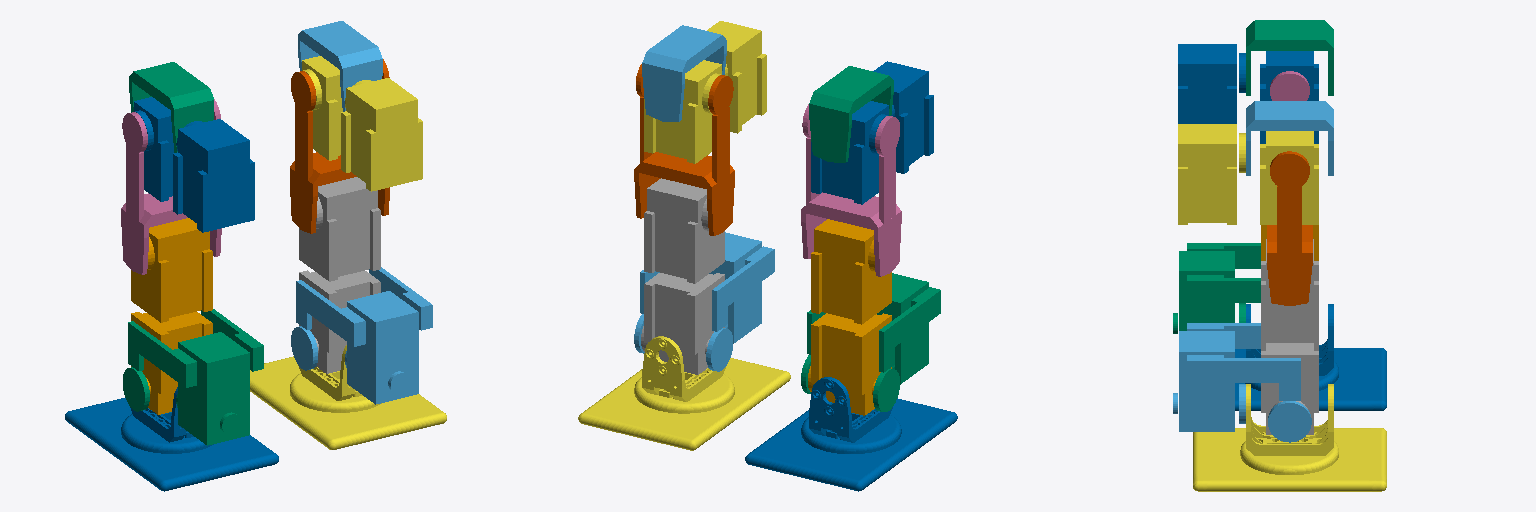
The robot description file, URDF, robot "humanoid":
<?xml version="1.0" ?>
<!-- =================================================================================== -->
<!-- |    This document was autogenerated by xacro from indy7.xacro                    | -->
<!-- |    EDITING THIS FILE BY HAND IS NOT RECOMMENDED                                 | -->
<!-- =================================================================================== -->
<robot name="humanoid" xmlns:xacro="http://ros.org/wiki/xacro">
	<!-- <material name="grey"> <color rgba="0.5 0.5 0.5 1"/> </material> -->
	<link name="body_link">
		<visual>
			<origin rpy="0 0 0" xyz="0 0 0"/>
			<geometry>
				<mesh filename="meshes/body.stl"/>
			</geometry>
			<material name="metal_grey"/>
		</visual>
		<collision>
			<origin rpy="0 0 0" xyz="0 0 0"/>
			<geometry>
				<mesh filename="meshes/body.stl" />
			</geometry>
		</collision>
		<inertial>
		<origin rpy="0 0 0" xyz="0 0 0"/>
			<mass value="1.59306955"/>
			<inertia ixx="+0.00572623" ixy="+0.00000251" ixz="-0.00011380" iyy="+0.00558959" iyz="-0.00000014" izz="+0.00966674"/>
		</inertial>
	</link>
	<link name="left_yaw_link">
		<visual>
			<origin rpy="0 0 0" xyz="0 0 0"/>
			<geometry>
				<mesh filename="meshes/yaw_link.stl"/>
			</geometry>
			<material name="metal_grey"/>
		</visual>
		<collision>
			<origin rpy="0 0 0" xyz="0 0 0"/>
			<geometry>
				<mesh filename="meshes/yaw_link.stl" />
			</geometry>
		</collision>
		<inertial>
		<origin rpy="0 0 0" xyz="0 0 0"/>
			<mass value="1.59306955"/>
			<inertia ixx="+0.00572623" ixy="+0.00000251" ixz="-0.00011380" iyy="+0.00558959" iyz="-0.00000014" izz="+0.00966674"/>
		</inertial>
	</link>
	<link name="right_yaw_link">
		<visual>
			<origin rpy="0 0 0" xyz="0 0 0"/>
			<geometry>
				<mesh filename="meshes/yaw_link.stl"/>
			</geometry>
			<material name="metal_grey"/>
		</visual>
		<collision>
			<origin rpy="0 0 0" xyz="0 0 0"/>
			<geometry>
				<mesh filename="meshes/yaw_link.stl" />
			</geometry>
		</collision>
		<inertial>
		<origin rpy="0 0 0" xyz="0 0 0"/>
			<mass value="1.59306955"/>
			<inertia ixx="+0.00572623" ixy="+0.00000251" ixz="-0.00011380" iyy="+0.00558959" iyz="-0.00000014" izz="+0.00966674"/>
		</inertial>
	</link>
	<link name="left_roll_link">
		<visual>
			<origin rpy="0 0 0" xyz="0 0 0"/>
			<geometry>
				<mesh filename="meshes/roll_link.stl"/>
			</geometry>
			<material name="metal_grey"/>
		</visual>
		<collision>
			<origin rpy="0 0 0" xyz="0 0 0"/>
			<geometry>
				<mesh filename="meshes/roll_link.stl" />
			</geometry>
		</collision>
		<inertial>
		<origin rpy="0 0 0" xyz="0 0 0"/>
			<mass value="1.59306955"/>
			<inertia ixx="+0.00572623" ixy="+0.00000251" ixz="-0.00011380" iyy="+0.00558959" iyz="-0.00000014" izz="+0.00966674"/>
		</inertial>
	</link>
	<link name="right_roll_link">
		<visual>
			<origin rpy="0 0 0" xyz="0 0 0"/>
			<geometry>
				<mesh filename="meshes/roll_link.stl"/>
			</geometry>
			<material name="metal_grey"/>
		</visual>
		<collision>
			<origin rpy="0 0 0" xyz="0 0 0"/>
			<geometry>
				<mesh filename="meshes/roll_link.stl" />
			</geometry>
		</collision>
		<inertial>
		<origin rpy="0 0 0" xyz="0 0 0"/>
			<mass value="1.59306955"/>
			<inertia ixx="+0.00572623" ixy="+0.00000251" ixz="-0.00011380" iyy="+0.00558959" iyz="-0.00000014" izz="+0.00966674"/>
		</inertial>
	</link>
	<link name="left_pitch_link">
		<visual>
			<origin rpy="0 0 0" xyz="0 0 0"/>
			<geometry>
				<mesh filename="meshes/pitch_link.stl"/>
			</geometry>
			<material name="metal_grey"/>
		</visual>
		<collision>
			<origin rpy="0 0 0" xyz="0 0 0"/>
			<geometry>
				<mesh filename="meshes/pitch_link.stl" />
			</geometry>
		</collision>
		<inertial>
		<origin rpy="0 0 0" xyz="0 0 0"/>
			<mass value="1.59306955"/>
			<inertia ixx="+0.00572623" ixy="+0.00000251" ixz="-0.00011380" iyy="+0.00558959" iyz="-0.00000014" izz="+0.00966674"/>
		</inertial>
	</link>
	<link name="right_pitch_link">
		<visual>
			<origin rpy="0 0 0" xyz="0 0 0"/>
			<geometry>
				<mesh filename="meshes/pitch_link.stl"/>
			</geometry>
			<material name="metal_grey"/>
		</visual>
		<collision>
			<origin rpy="0 0 0" xyz="0 0 0"/>
			<geometry>
				<mesh filename="meshes/pitch_link.stl" />
			</geometry>
		</collision>
		<inertial>
		<origin rpy="0 0 0" xyz="0 0 0"/>
			<mass value="1.59306955"/>
			<inertia ixx="+0.00572623" ixy="+0.00000251" ixz="-0.00011380" iyy="+0.00558959" iyz="-0.00000014" izz="+0.00966674"/>
		</inertial>
	</link>
	<link name="left_leg_link">
		<visual>
			<origin rpy="0 0 0" xyz="0 0 0"/>
			<geometry>
				<mesh filename="meshes/leg_link.stl"/>
			</geometry>
			<material name="metal_grey"/>
		</visual>
		<collision>
			<origin rpy="0 0 0" xyz="0 0 0"/>
			<geometry>
				<mesh filename="meshes/leg_link.stl" />
			</geometry>
		</collision>
		<inertial>
		<origin rpy="0 0 0" xyz="0 0 0"/>
			<mass value="1.59306955"/>
			<inertia ixx="+0.00572623" ixy="+0.00000251" ixz="-0.00011380" iyy="+0.00558959" iyz="-0.00000014" izz="+0.00966674"/>
		</inertial>
	</link>
	<link name="right_leg_link">
		<visual>
			<origin rpy="0 0 0" xyz="0 0 0"/>
			<geometry>
				<mesh filename="meshes/leg_link.stl"/>
			</geometry>
			<material name="metal_grey"/>
		</visual>
		<collision>
			<origin rpy="0 0 0" xyz="0 0 0"/>
			<geometry>
				<mesh filename="meshes/leg_link.stl" />
			</geometry>
		</collision>
		<inertial>
		<origin rpy="0 0 0" xyz="0 0 0"/>
			<mass value="1.59306955"/>
			<inertia ixx="+0.00572623" ixy="+0.00000251" ixz="-0.00011380" iyy="+0.00558959" iyz="-0.00000014" izz="+0.00966674"/>
		</inertial>
	</link>
	<link name="left_leg_link2">
		<visual>
			<origin rpy="0 0 0" xyz="0 0 0"/>
			<geometry>
				<mesh filename="meshes/leg_link2.stl"/>
			</geometry>
			<material name="metal_grey"/>
		</visual>
		<collision>
			<origin rpy="0 0 0" xyz="0 0 0"/>
			<geometry>
				<mesh filename="meshes/leg_link2.stl" />
			</geometry>
		</collision>
		<inertial>
		<origin rpy="0 0 0" xyz="0 0 0"/>
			<mass value="1.59306955"/>
			<inertia ixx="+0.00572623" ixy="+0.00000251" ixz="-0.00011380" iyy="+0.00558959" iyz="-0.00000014" izz="+0.00966674"/>
		</inertial>
	</link>	
	<link name="right_leg_link2">
		<visual>
			<origin rpy="0 0 0" xyz="0 0 0"/>
			<geometry>
				<mesh filename="meshes/leg_link2.stl"/>
			</geometry>
			<material name="metal_grey"/>
		</visual>
		<collision>
			<origin rpy="0 0 0" xyz="0 0 0"/>
			<geometry>
				<mesh filename="meshes/leg_link2.stl" />
			</geometry>
		</collision>
		<inertial>
		<origin rpy="0 0 0" xyz="0 0 0"/>
			<mass value="1.59306955"/>
			<inertia ixx="+0.00572623" ixy="+0.00000251" ixz="-0.00011380" iyy="+0.00558959" iyz="-0.00000014" izz="+0.00966674"/>
		</inertial>
	</link>	
	<link name="left_feet_link">
		<visual>
			<origin rpy="0 0 0" xyz="0 0 0"/>
			<geometry>
				<mesh filename="meshes/feet_link.stl"/>
			</geometry>
			<material name="metal_grey"/>
		</visual>
		<collision>
			<origin rpy="0 0 0" xyz="0 0 0"/>
			<geometry>
				<mesh filename="meshes/feet_link.stl" />
			</geometry>
		</collision>
		<inertial>
		<origin rpy="0 0 0" xyz="0 0 0"/>
			<mass value="1.59306955"/>
			<inertia ixx="+0.00572623" ixy="+0.00000251" ixz="-0.00011380" iyy="+0.00558959" iyz="-0.00000014" izz="+0.00966674"/>
		</inertial>
	</link>
	<link name="right_feet_link">
		<visual>
			<origin rpy="0 0 0" xyz="0 0 0"/>
			<geometry>
				<mesh filename="meshes/feet_link.stl"/>
			</geometry>
			<material name="metal_grey"/>
		</visual>
		<collision>
			<origin rpy="0 0 0" xyz="0 0 0"/>
			<geometry>
				<mesh filename="meshes/feet_link.stl" />
			</geometry>
		</collision>
		<inertial>
		<origin rpy="0 0 0" xyz="0 0 0"/>
			<mass value="1.59306955"/>
			<inertia ixx="+0.00572623" ixy="+0.00000251" ixz="-0.00011380" iyy="+0.00558959" iyz="-0.00000014" izz="+0.00966674"/>
		</inertial>
	</link>




	<joint name="left_yaw_joint" type="revolute">
		<parent link="body_link"/>
		<child link="left_yaw_link"/>
		<origin rpy="0 0 0" xyz="0.0519 0 -0.021003"/>
		<axis xyz="0 0 1"/>
		<limit effort="10" lower="-3.141592" upper="3.141592" velocity="1"/>
	</joint>

	<joint name="right_yaw_joint" type="revolute">
		<parent link="body_link"/>
		<child link="right_yaw_link"/>
		<origin rpy="0 0 0" xyz="-0.0519 0 -0.021003"/>
		<axis xyz="0 0 1"/>
		<limit effort="10" lower="-3.141592" upper="3.141592" velocity="1"/>
	</joint>

	<joint name="left_roll_joint" type="revolute">
		<parent link="left_yaw_link"/>
		<child link="left_roll_link"/>
		<origin rpy="0 0 0" xyz="0 0 -0.025916"/>
		<axis xyz="0 1 0"/>
		<limit effort="10" lower="-1.5707" upper="1.5707" velocity="1"/>
	</joint>
	<joint name="right_roll_joint" type="revolute">
		<parent link="right_yaw_link"/>
		<child link="right_roll_link"/>
		<origin rpy="0 0 0" xyz="0 0 -0.025916"/>
		<axis xyz="0 1 0"/>
		<limit effort="10" lower="-1.5707" upper="1.5707" velocity="1"/>
	</joint>
	<joint name="left_pitch_joint" type="revolute">
		<parent link="left_roll_link"/>
		<child link="left_pitch_link"/>
		<origin rpy="0 0 0" xyz="0 0 0"/>
		<axis xyz="1 0 0"/>
		<limit effort="10" lower="-0.349065" upper="2.617993333333333" velocity="1"/>
	</joint>	
	<joint name="right_pitch_joint" type="revolute">
		<parent link="right_roll_link"/>
		<child link="right_pitch_link"/>
		<origin rpy="0 0 0" xyz="0 0 0"/>
		<axis xyz="1 0 0"/>
		<limit effort="10" lower="-0.349065" upper="2.617993333333333" velocity="1"/>
	</joint>	
	<joint name="left_leg_joint" type="revolute">
		<parent link="left_pitch_link"/>
		<child link="left_leg_link"/>
		<origin rpy="0 0 0" xyz="0 0 -0.070405"/>
		<axis xyz="1 0 0"/>
		<limit effort="10" lower="-2.0420348" upper="2.0420348" velocity="1"/>
	</joint>	
	<joint name="right_leg_joint" type="revolute">
		<parent link="right_pitch_link"/>
		<child link="right_leg_link"/>
		<origin rpy="0 0 0" xyz="0 0 -0.070405"/>
		<axis xyz="1 0 0"/>
		<limit effort="10" lower="-2.0420348" upper="2.0420348" velocity="1"/>
	</joint>
	<joint name="left_leg_joint2" type="revolute">
		<parent link="left_leg_link"/>
		<child link="left_leg_link2"/>
		<origin rpy="0 0 0" xyz="0 0 -0.080865"/>
		<axis xyz="1 0 0"/>
		<limit effort="10" lower="-0.349065" upper="0.349065" velocity="1"/>
	</joint>
	<joint name="right_leg_joint2" type="revolute">
		<parent link="right_leg_link"/>
		<child link="right_leg_link2"/>
		<origin rpy="0 0 0" xyz="0 0 -0.080865"/>
		<axis xyz="1 0 0"/>
		<limit effort="10" lower="-0.349065" upper="0.349065" velocity="1"/>
	</joint>	
	<joint name="left_feet_joint" type="revolute">
		<parent link="left_leg_link2"/>
		<child link="left_feet_link"/>
		<origin rpy="0 0 0" xyz="0 0 0.0"/>
		<axis xyz="0 1 0"/>
		<limit effort="10" lower="-0.4188789333333333" upper="0.4188789333333333" velocity="1"/>
	</joint>
	<joint name="right_feet_joint" type="revolute">
		<parent link="right_leg_link2"/>
		<child link="right_feet_link"/>
		<origin rpy="0 0 0" xyz="0 0 0.0"/>
		<axis xyz="0 1 0"/>
		<limit effort="10" lower="-0.4188789333333333" upper="0.4188789333333333" velocity="1"/>
	</joint>					
</robot>

--- Render facts (derived) ---
The picture shows the robot from 3 angles, left to right: view 1: azimuth 30°, elevation 25°; view 2: azimuth 150°, elevation 25°; view 3: azimuth 270°, elevation 25°; orthographic projection.
Model humanoid with 13 links and 12 joints (12 revolute), rooted at body_link, posed every joint at zero.
Visible links, largest first — view 1: left_leg_link2, right_leg_link2, right_roll_link, left_roll_link, right_feet_link, left_feet_link, right_leg_link, left_leg_link, right_pitch_link, left_pitch_link, right_yaw_link, left_yaw_link; view 2: left_feet_link, right_feet_link, left_leg_link, right_leg_link, right_roll_link, left_roll_link, right_pitch_link, left_pitch_link, left_leg_link2, right_leg_link2, right_yaw_link, left_yaw_link; view 3: left_feet_link, left_leg_link2, left_roll_link, right_roll_link, right_leg_link2, left_pitch_link, left_leg_link, right_feet_link, right_yaw_link, left_yaw_link, right_pitch_link.
Boxes of the visible links, x1,y1,x2,y2 form: left_leg_link2: (291,267,432,404); right_leg_link2: (123,309,263,445); right_roll_link: (134,97,254,232); left_roll_link: (302,56,422,191); right_feet_link: (65,387,278,491); left_feet_link: (250,345,446,449); right_leg_link: (131,218,212,414); left_leg_link: (299,177,380,373); right_pitch_link: (121,99,221,274); left_pitch_link: (290,59,389,233); right_yaw_link: (129,62,213,152); left_yaw_link: (298,21,382,111); left_feet_link: (578,336,790,450); right_feet_link: (745,377,957,491); left_leg_link: (641,178,724,374); right_leg_link: (808,219,891,415); right_roll_link: (811,61,933,204); left_roll_link: (644,21,766,163); right_pitch_link: (801,104,901,276); left_pitch_link: (634,64,734,235); left_leg_link2: (634,232,774,371); right_leg_link2: (801,273,940,411); right_yaw_link: (809,66,893,162); left_yaw_link: (642,25,726,121); left_feet_link: (1193,384,1386,491); left_leg_link2: (1173,323,1311,442); left_roll_link: (1178,124,1318,224); right_roll_link: (1178,44,1318,143); right_leg_link2: (1173,243,1260,333); left_pitch_link: (1267,151,1312,305); left_leg_link: (1261,239,1318,434); right_feet_link: (1235,304,1386,410); right_yaw_link: (1246,20,1333,95); left_yaw_link: (1246,101,1333,175); right_pitch_link: (1270,71,1309,100).
Bounding box of the posed robot: 0.1773 × 0.1172 × 0.2142 m (x, y, z).
12 mesh visuals loaded from 7 distinct referenced files (6 binary STL); not drawn: 1 (reference not matched to a file when rendering).
